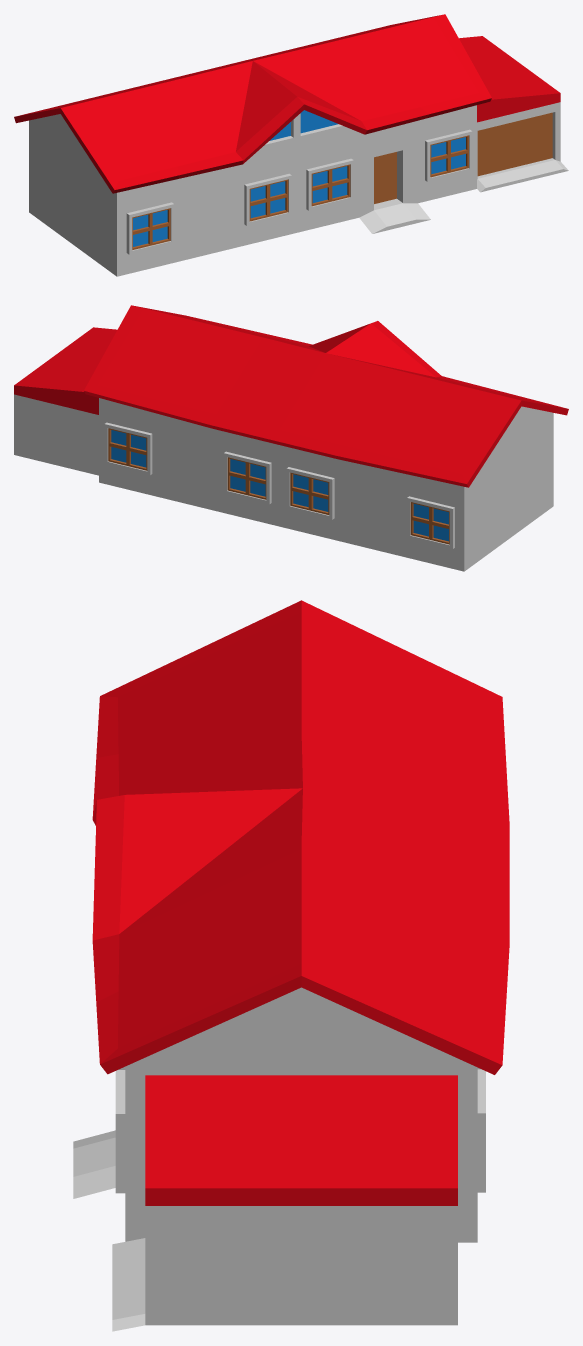
The model's file is domek_miasteczko_marzec.fbx.
The picture shows the model from 3 angles, top to bottom: view 1: azimuth 30°, elevation 25°; view 2: azimuth 150°, elevation 25°; view 3: azimuth 270°, elevation 25°; orthographic projection. The views are drawn at different scales.
Parts seen in each view (by area): view 1: Cube; view 2: Cube; view 3: Cube.
Part boxes in pixels (x1,y1,x2,y2): Cube: (14, 14, 568, 276); Cube: (14, 305, 568, 571); Cube: (73, 600, 509, 1331).
Bounding box in the file's own units: 605 × 184 × 248.
